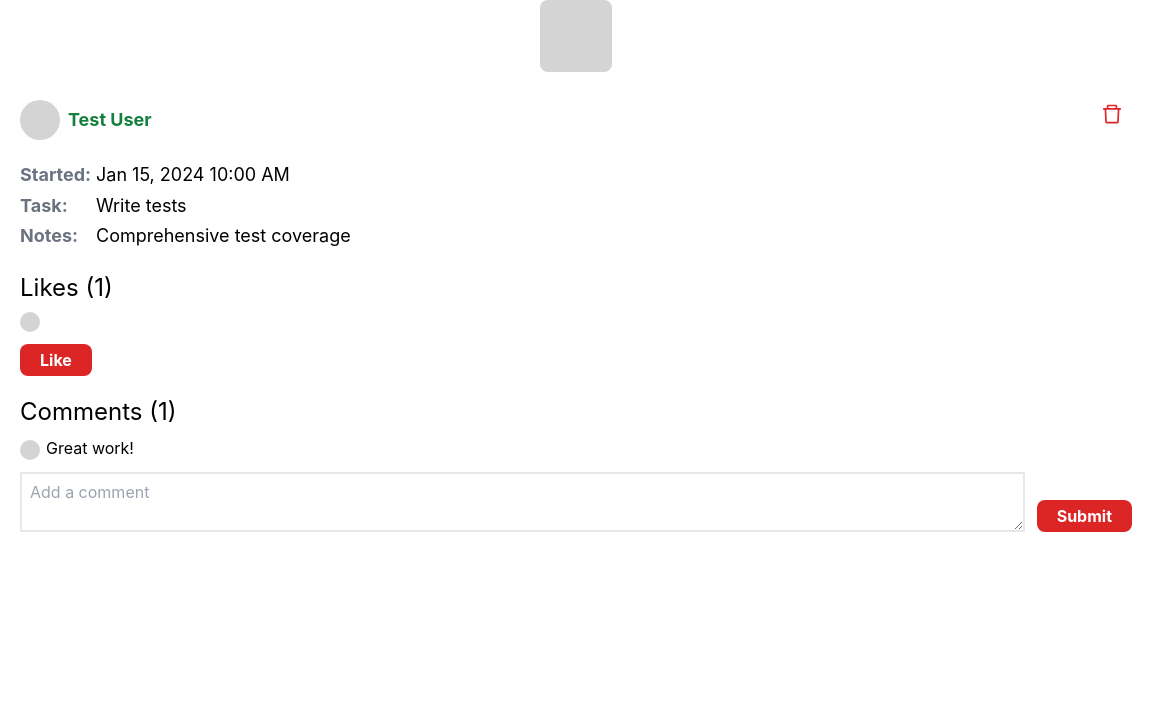
Test: DoroDetail › Image handling › should close modal when close button is clicked
This screenshot has width=1152, height=720.
What coordinates should you click on to do the following:
click the button with alt text "user-post"
I would click on:
 (576, 36)
Its box is [0,0,1151,72].
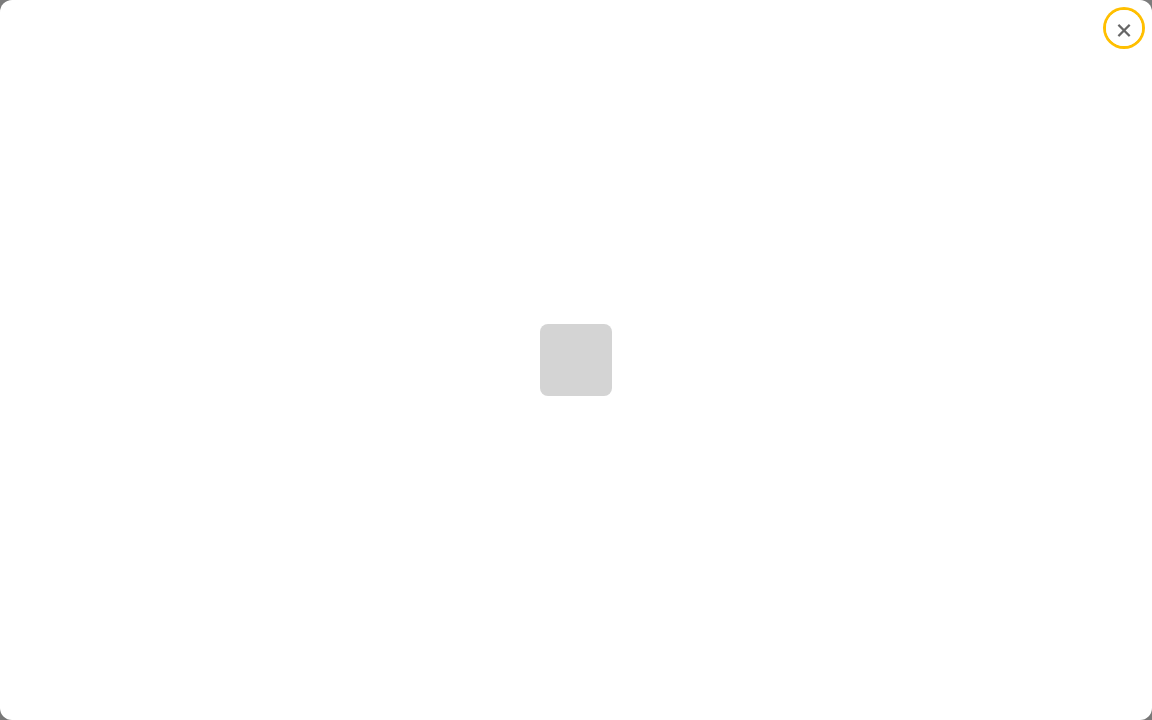
Expected: the dialog is shown
What coordinates should you click on to do the following:
click the button named "close modal"
I would click on:
 (1124, 28)
Its box is [1106,10,1142,46].
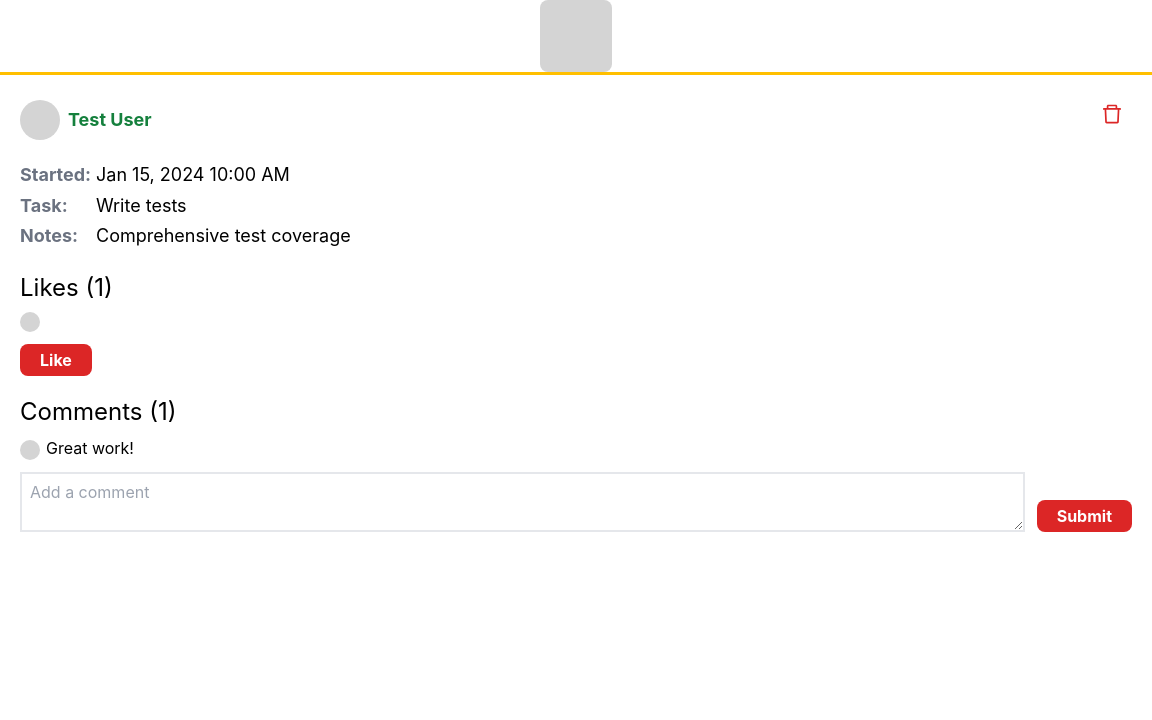
Expected: the dialog is gone
